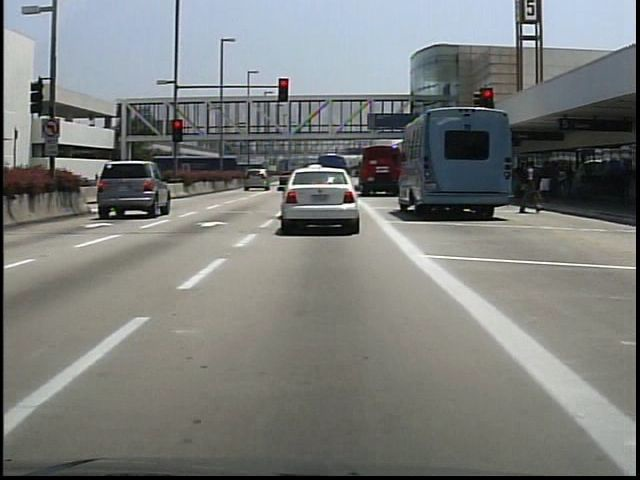person: (518, 152, 539, 214), (537, 157, 554, 203)
